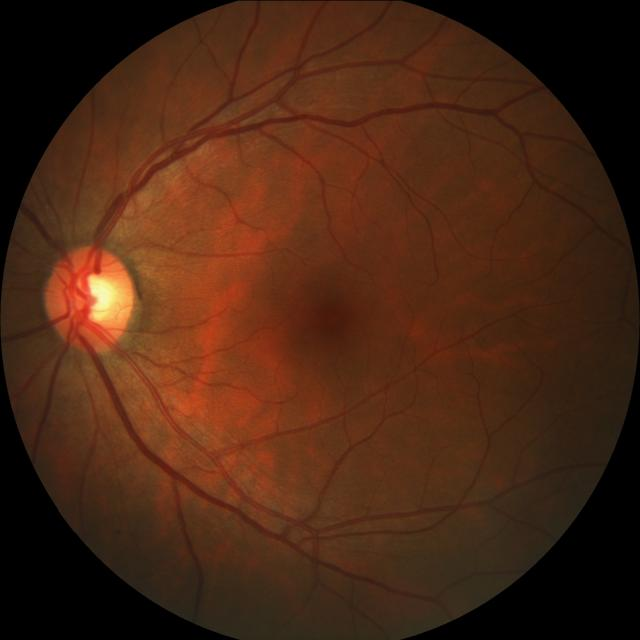OC: (70, 271, 120, 324)
OD: (47, 244, 136, 352)
